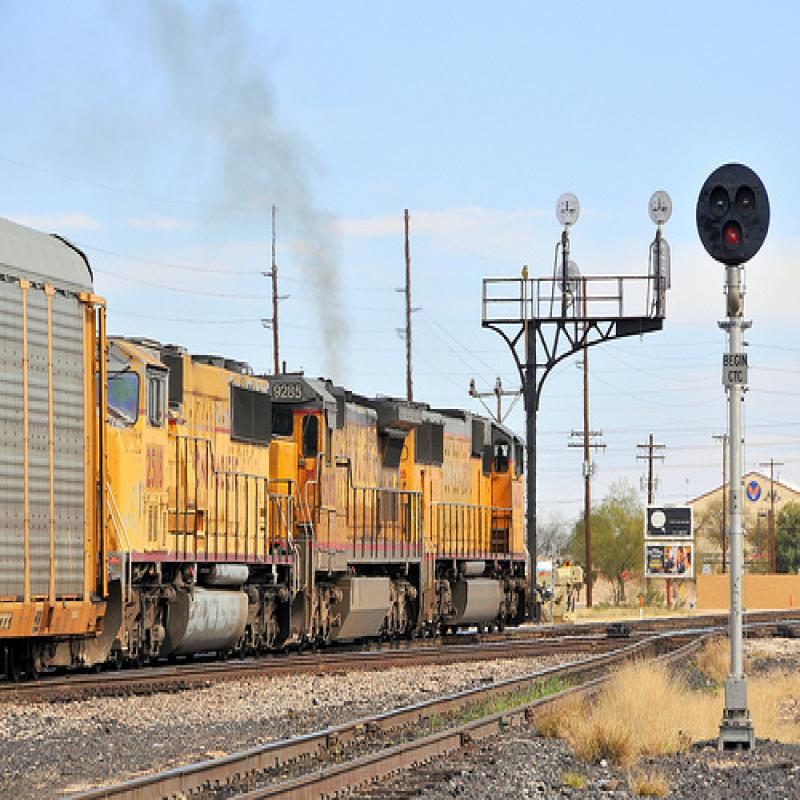train: (3, 215, 534, 680)
